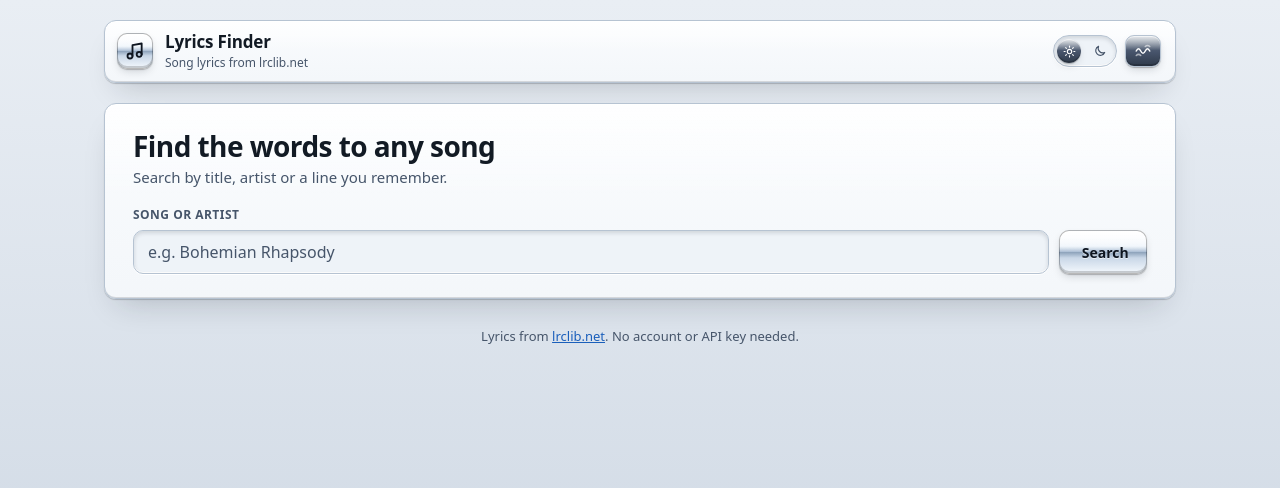
Scenario: search › says when the network is down
Type "demo" into the search field labelled "Song or artist" at (591, 252), box [133, 230, 1049, 274]
Then press Enter
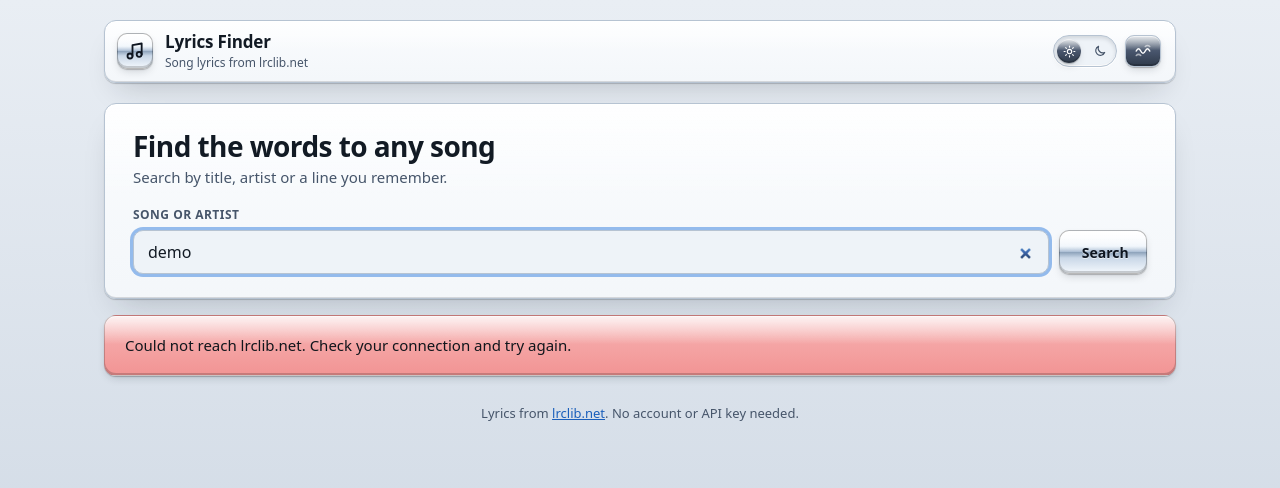
Expected: the message shows "Could not reach lrclib.net", [125, 335, 571, 355]
